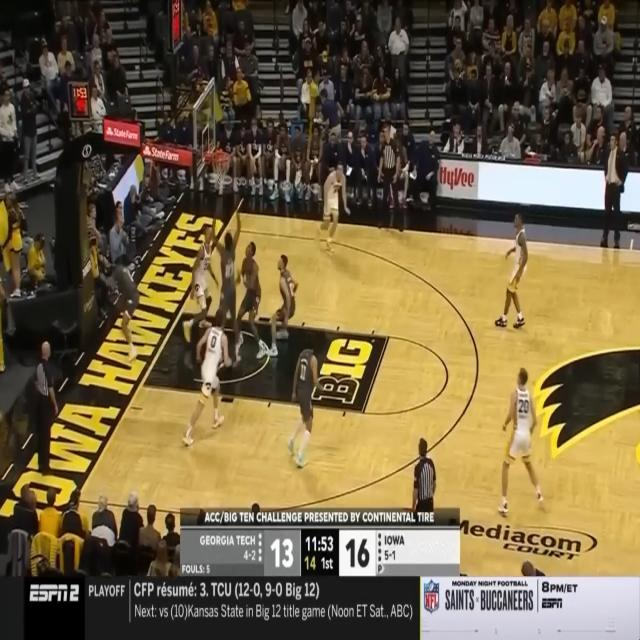Ball: (220, 155, 230, 172)
Clock: (68, 83, 90, 120), (172, 0, 182, 54)
Hoop: (212, 150, 230, 188)
Overlay: (0, 576, 640, 640), (180, 507, 460, 577)
Player: (497, 366, 544, 520), (182, 308, 232, 450), (286, 338, 327, 469), (212, 202, 242, 366), (182, 224, 219, 342), (232, 240, 267, 362), (494, 211, 528, 330), (264, 254, 298, 358), (315, 160, 350, 255), (110, 264, 139, 363)
Ref: (412, 437, 436, 577), (33, 339, 57, 475), (377, 123, 404, 234)
Scoreboard: (180, 530, 460, 576)
